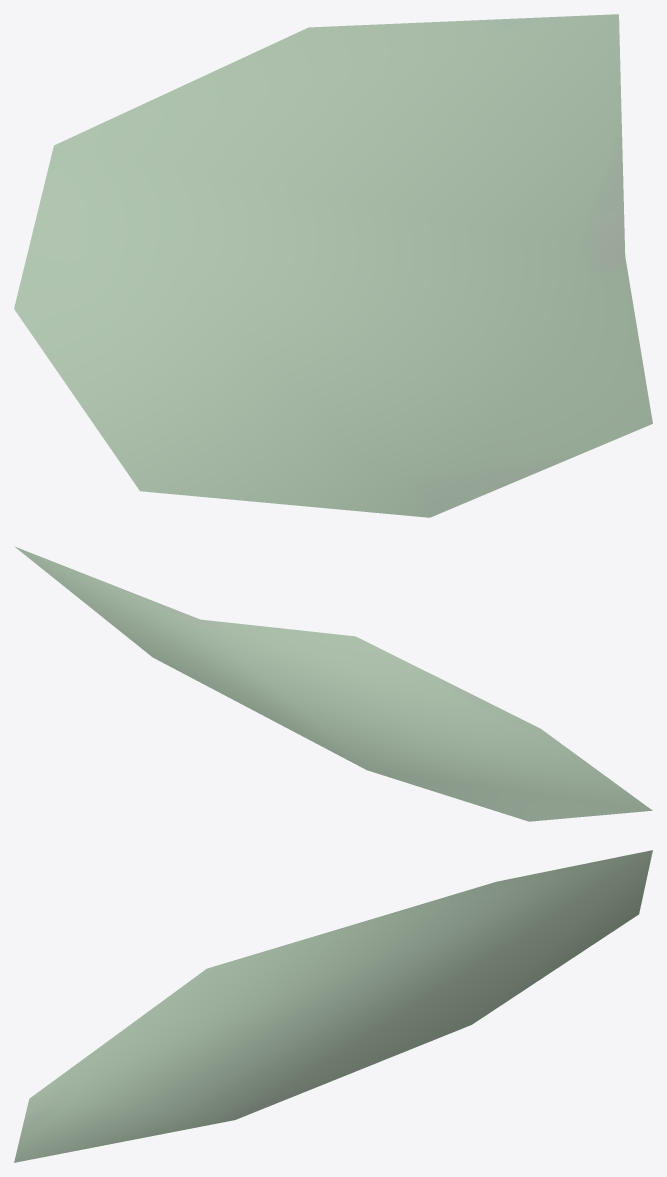
File: TROLLHOLE02_HOLECAP80.fbx
3 views of the same model, one above another, from view 1: azimuth 30°, elevation 25°; view 2: azimuth 150°, elevation 25°; view 3: azimuth 270°, elevation 25° (orthographic). The views are drawn at different scales.
Visible parts, largest first — view 1: TROLLHOLE02_HOLECAP80; view 2: TROLLHOLE02_HOLECAP80; view 3: TROLLHOLE02_HOLECAP80.
Boxes of the visible parts, left/top/right/bottom form: TROLLHOLE02_HOLECAP80: left=14, top=14, right=652, bottom=517; TROLLHOLE02_HOLECAP80: left=14, top=546, right=652, bottom=821; TROLLHOLE02_HOLECAP80: left=14, top=850, right=652, bottom=1162.
Bounding box in the file's own units: 10735 × 4427 × 9082.
Materials: 1 (1 with a texture image).
